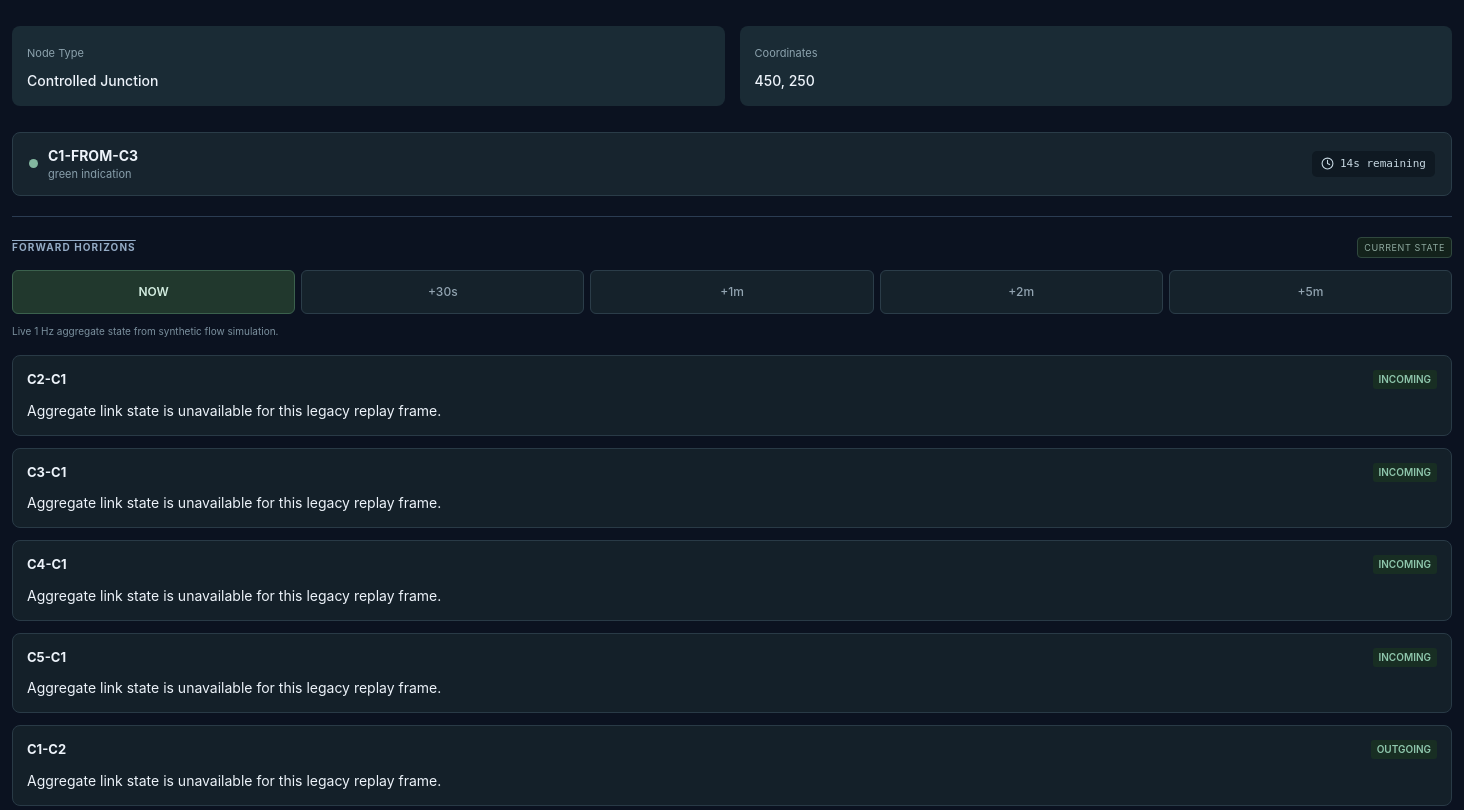
Test: Epic 3 S10: Junction Intelligence Drawer & Horizons › renders current state, forward horizon tabs, and spillback ETA for C1
The width and height of the screenshot is (1464, 810).
Expected: the text "14s remaining" is shown, [1340,156,1426,172]
Expected: the button "NOW" is shown, [12,270,295,314]
// Switch horizon to +30s
Click the button "+30s" at (443, 292), box [301,270,584,314]
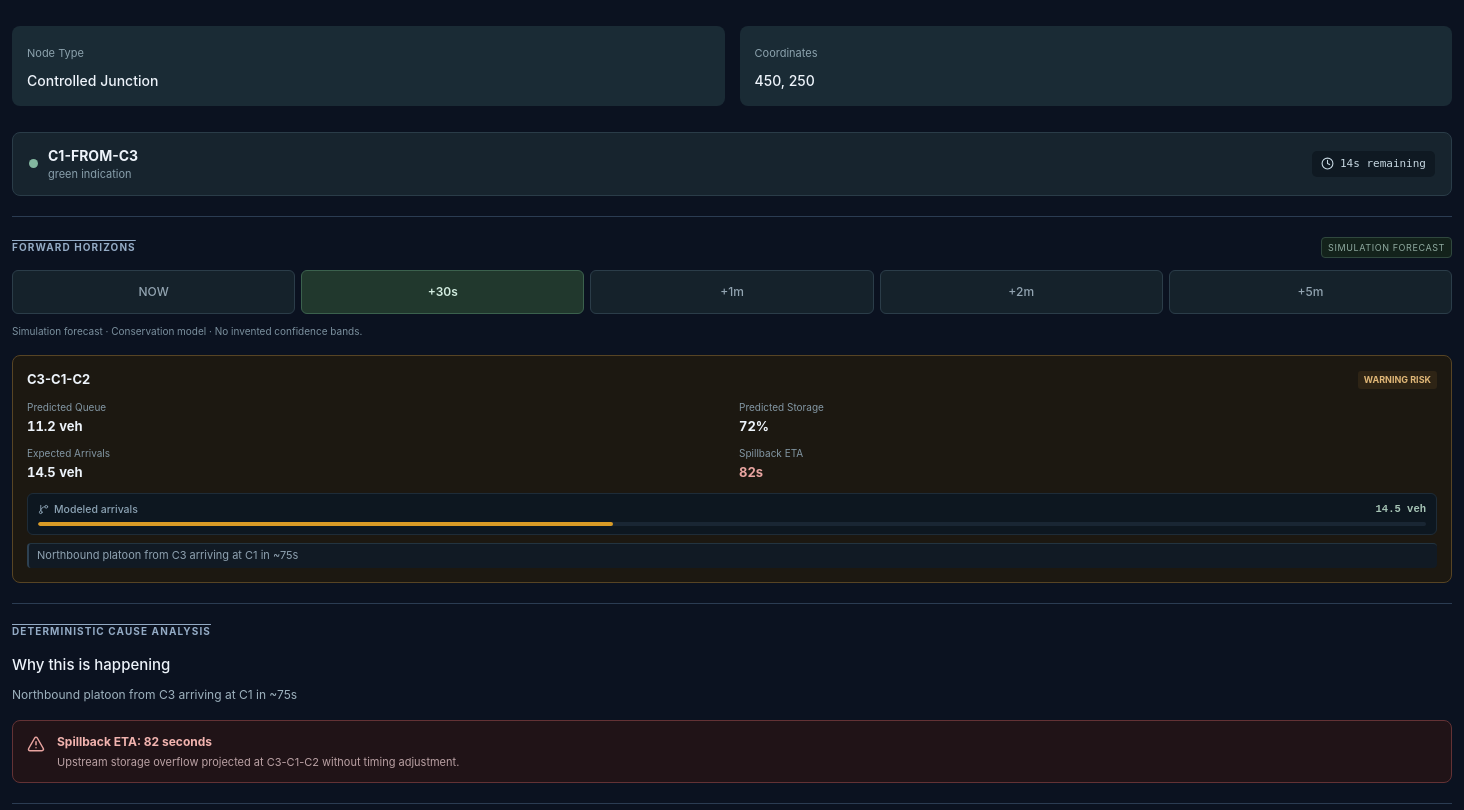
Now the text "Predicted Queue" is shown, box [27,400,106,412]
Now the text "11.2 veh" is shown, box [27,418,83,434]
